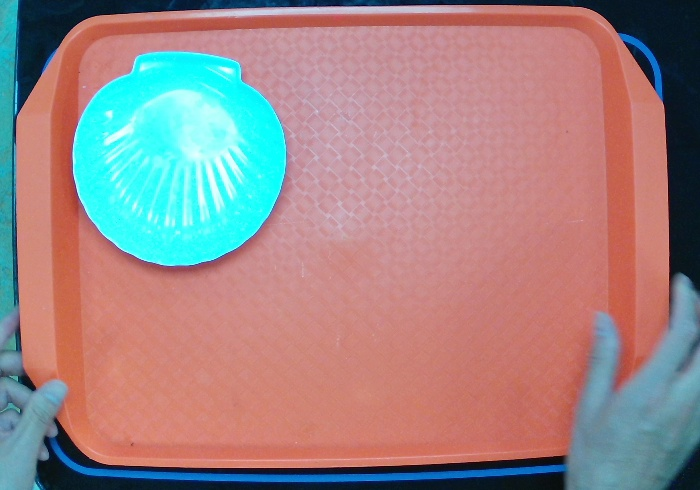RJxy-Bei_Ke_Wan: (60, 44, 298, 278)
